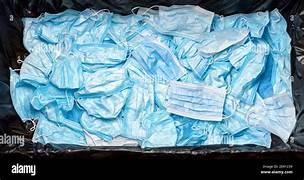Mask: (137, 5, 213, 40), (231, 40, 268, 104), (246, 93, 295, 141), (166, 81, 225, 120), (132, 39, 185, 79), (119, 82, 154, 139), (76, 88, 129, 119), (75, 68, 131, 97), (10, 69, 38, 121), (213, 12, 268, 37), (141, 110, 176, 147), (20, 48, 53, 87), (30, 83, 73, 110), (80, 112, 121, 140), (49, 55, 82, 88)
